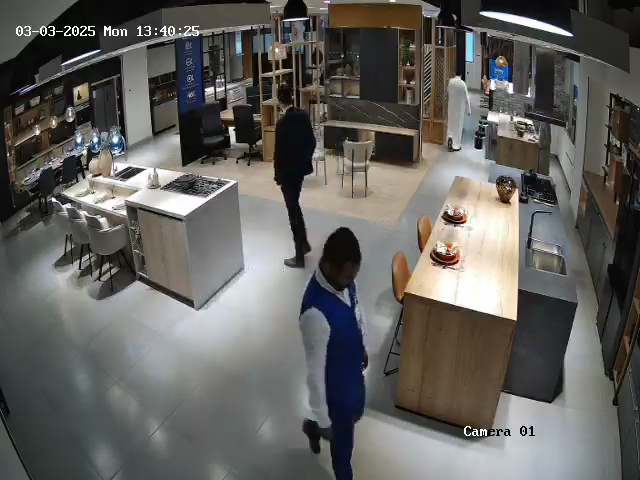employee: (298, 226, 369, 480), (273, 84, 317, 268)
male: (446, 71, 471, 152)
